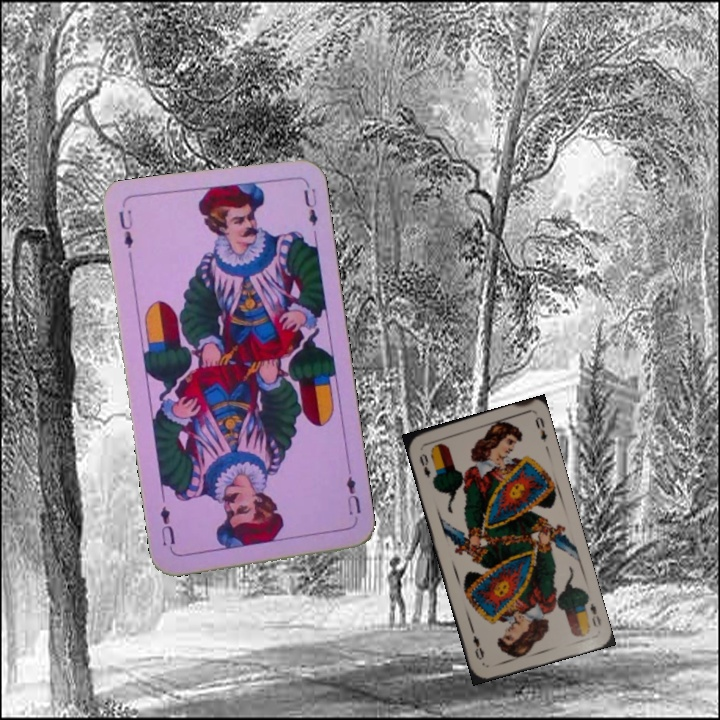EO: (415, 450, 433, 480), (586, 599, 604, 629)
EU: (342, 472, 363, 517), (115, 206, 136, 251)
